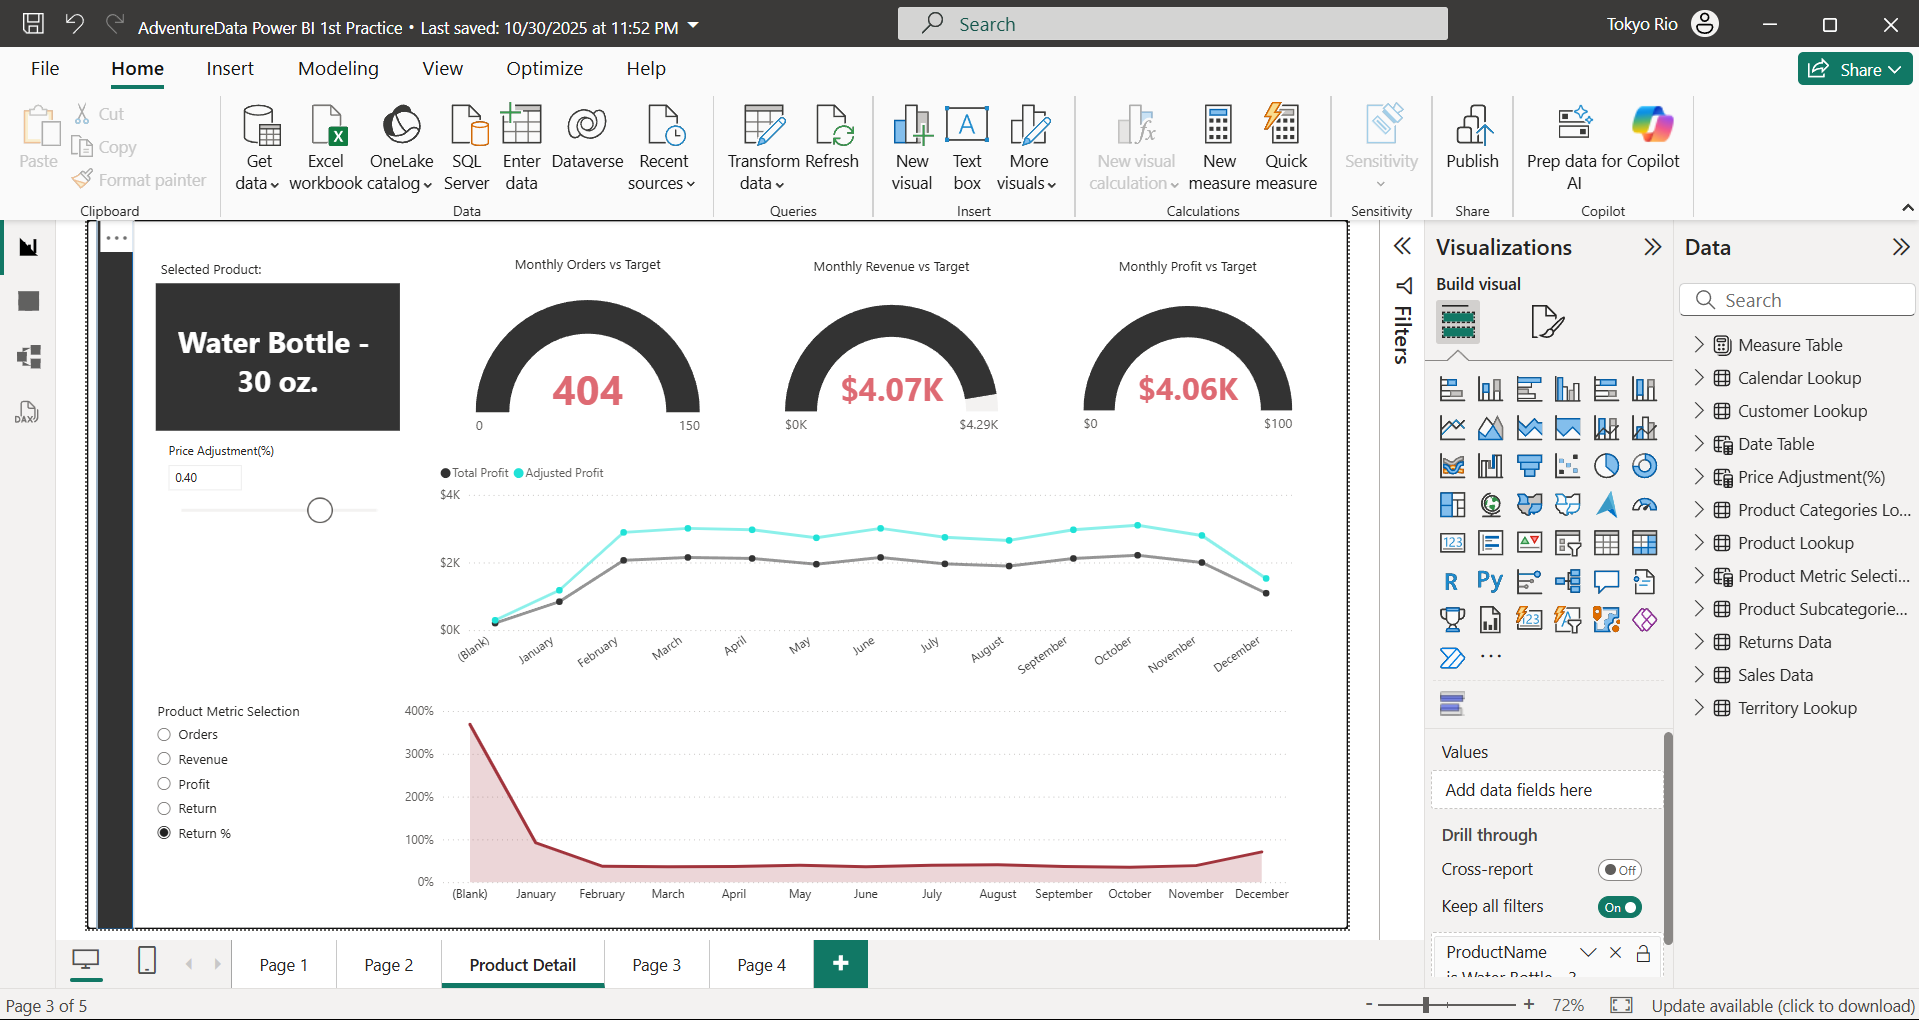

What the dashboard file says about the page in this screenshot:
{"tool":"powerbi","page":{"name":"Product Detail","canvas":[1280,720],"ordinal":2},"visuals":[{"type":"shape","box":[10,0,37,720.7],"z":0},{"type":"gauge","title":"Monthly Orders vs Target","fields":{"Y":["Measure Table.Total Orders"],"MaxValue":["Measure Table.Order Target"]},"box":[390.2,35.6,237.8,216.5],"z":1000},{"type":"gauge","title":"Monthly Profit vs Target","fields":{"Y":["Measure Table.Total Profit"],"MaxValue":["Measure Table.Profit Target"]},"box":[1006.9,37,222.2,215.1],"z":2000},{"type":"gauge","title":"Monthly Revenue vs Target","fields":{"Y":["Measure Table.Total Revenue"],"MaxValue":["Measure Table.Revenue Target"]},"box":[704.3,37,226.5,215.1],"z":3000},{"type":"lineChart","title":"Profit Trending","fields":{"Y":["Measure Table.Total Profit","Measure Table.Adjusted Profit"],"Category":["Customer Lookup.BirthDate.Variation.Date Hierarchy.Year","Customer Lookup.BirthDate.Variation.Date Hierarchy.Quarter","Customer Lookup.BirthDate.Variation.Date Hierarchy.Month","Customer Lookup.BirthDate.Variation.Date Hierarchy.Day"]},"box":[353.9,236.8,875.4,247.4],"z":4000},{"type":"lineChart","title":"Returns Trending","fields":{"Y":["Measure Table.Return Rate"],"Category":["Customer Lookup.BirthDate.Variation.Date Hierarchy.Year","Customer Lookup.BirthDate.Variation.Date Hierarchy.Quarter","Customer Lookup.BirthDate.Variation.Date Hierarchy.Month","Customer Lookup.BirthDate.Variation.Date Hierarchy.Day"]},"box":[317,484.6,912,217.9],"z":5000},{"type":"card","fields":{"Values":["Min(Product Lookup.ProductName)"]},"box":[69.8,64.1,247.8,149.5],"z":6000},{"type":"textbox","box":[69.8,35.6,123.9,28.5],"z":7000},{"type":"slicer","fields":{"Values":["Price Adjustment(%).Price Adjustment(%)"]},"box":[69.8,220.7,247.2,125.7],"z":8000},{"type":"slicer","fields":{"Values":["Product Metric Selection.Product Metric Selection"]},"box":[58.7,484.6,258.4,217.9],"z":9000}]}

Visuals, with their boxes on the page's 1280x720 design canvas (x1, y1, x2, y2). These are canvas units, not pixel positions in the 1919x1020 screenshot, which may show the page scaled, cropped or inside an application window:
shape: Rect(10, 0, 47, 721)
"Monthly Orders vs Target" gauge: Rect(390, 36, 628, 252)
"Monthly Profit vs Target" gauge: Rect(1007, 37, 1229, 252)
"Monthly Revenue vs Target" gauge: Rect(704, 37, 931, 252)
"Profit Trending" lineChart: Rect(354, 237, 1229, 484)
"Returns Trending" lineChart: Rect(317, 485, 1229, 702)
card - Min(Product Lookup.ProductName): Rect(70, 64, 318, 214)
textbox: Rect(70, 36, 194, 64)
slicer - Price Adjustment(%).Price Adjustment(%): Rect(70, 221, 317, 346)
slicer - Product Metric Selection.Product Metric Selection: Rect(59, 485, 317, 702)
